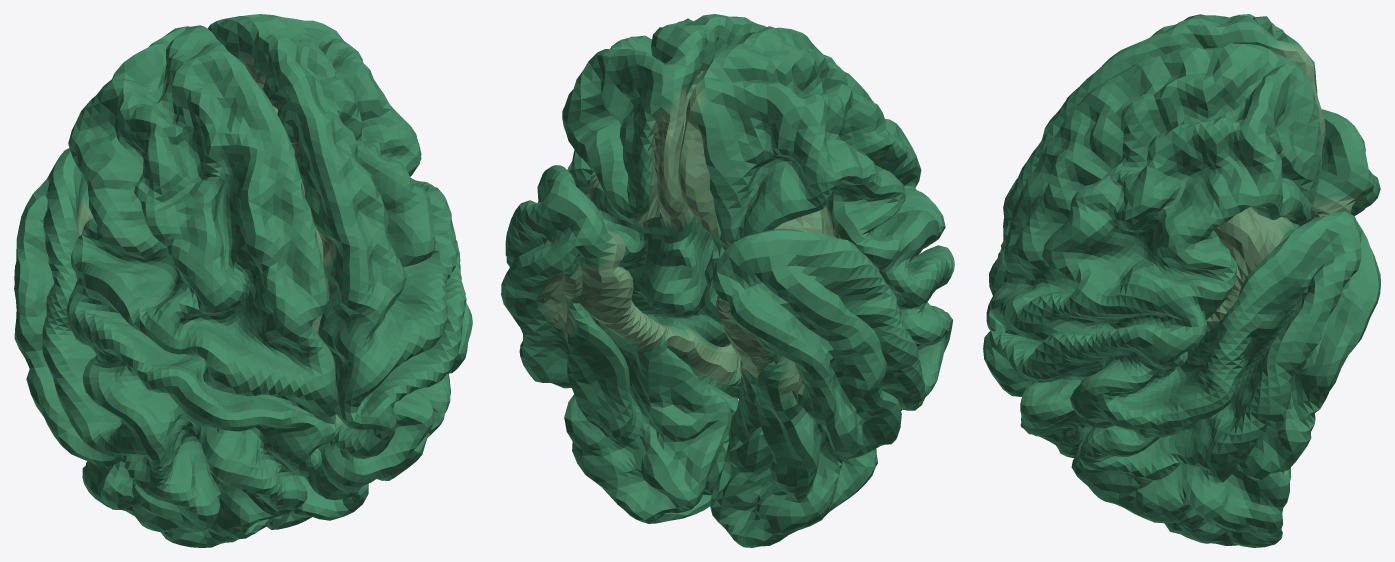
The model's file is fsaverage5-cortex.glb.
The picture shows the model from 3 angles, left to right: view 1: azimuth 30°, elevation 25°; view 2: azimuth 150°, elevation 25°; view 3: azimuth 270°, elevation 25°; orthographic projection. The views are drawn at different scales.
Visible parts, largest first — view 1: world; view 2: world; view 3: world.
Boxes of the visible parts, x1,y1,x2,y2 form: world: (14,14,472,547); world: (501,14,954,547); world: (983,14,1380,547).
Size of the model in its own units: 139 by 174 by 128.
